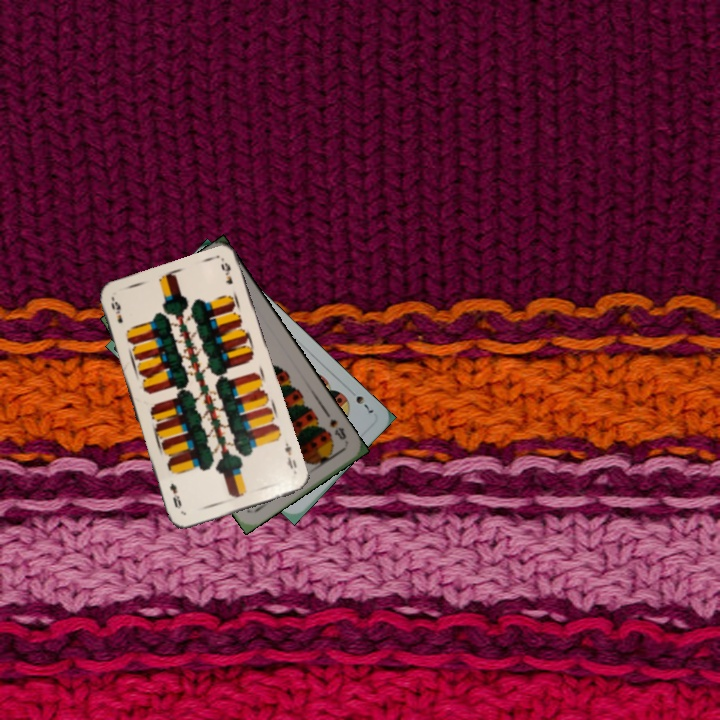E9: (280, 439, 299, 472), (107, 295, 125, 326)
S7: (345, 385, 377, 416)
S8: (325, 414, 349, 442)
